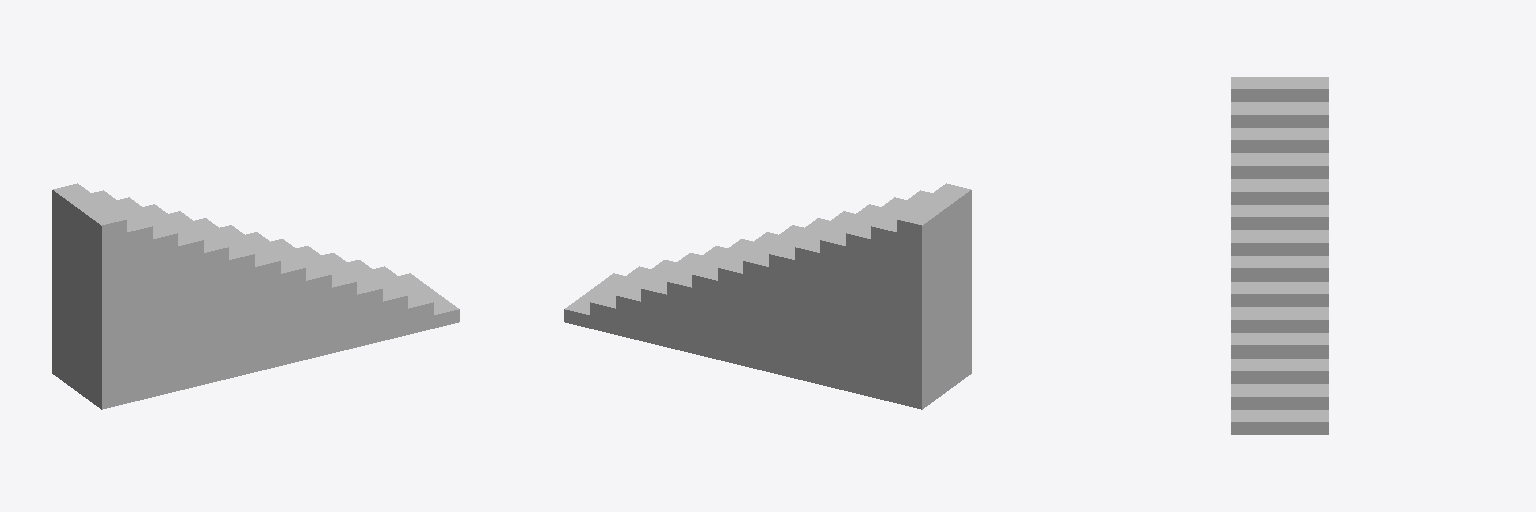
The model's file is stairs.obj.
3 renders of one model, left to right at view 1: azimuth 30°, elevation 25°; view 2: azimuth 150°, elevation 25°; view 3: azimuth 270°, elevation 25°, orthographic.
Parts seen in each view (by area): view 1: Stairs_Modified_Cube.002; view 2: Stairs_Modified_Cube.002; view 3: Stairs_Modified_Cube.002.
Boxes of the visible parts, <box> form: Stairs_Modified_Cube.002: <box>52,183,459,409</box>; Stairs_Modified_Cube.002: <box>564,183,971,409</box>; Stairs_Modified_Cube.002: <box>1231,77,1328,434</box>.
Bounding box in the file's own units: 8.13 × 4 × 1.94.